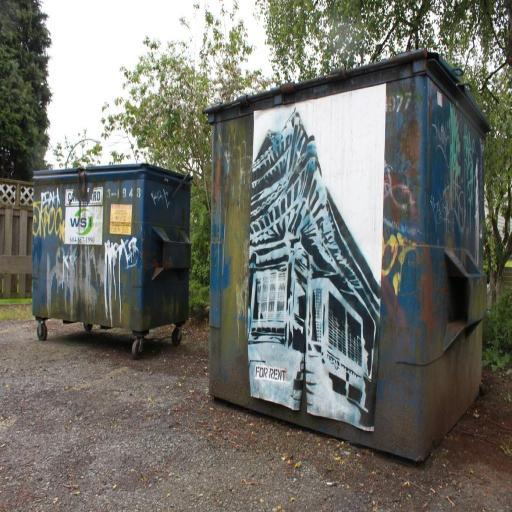trash-can: (25, 154, 201, 373)
